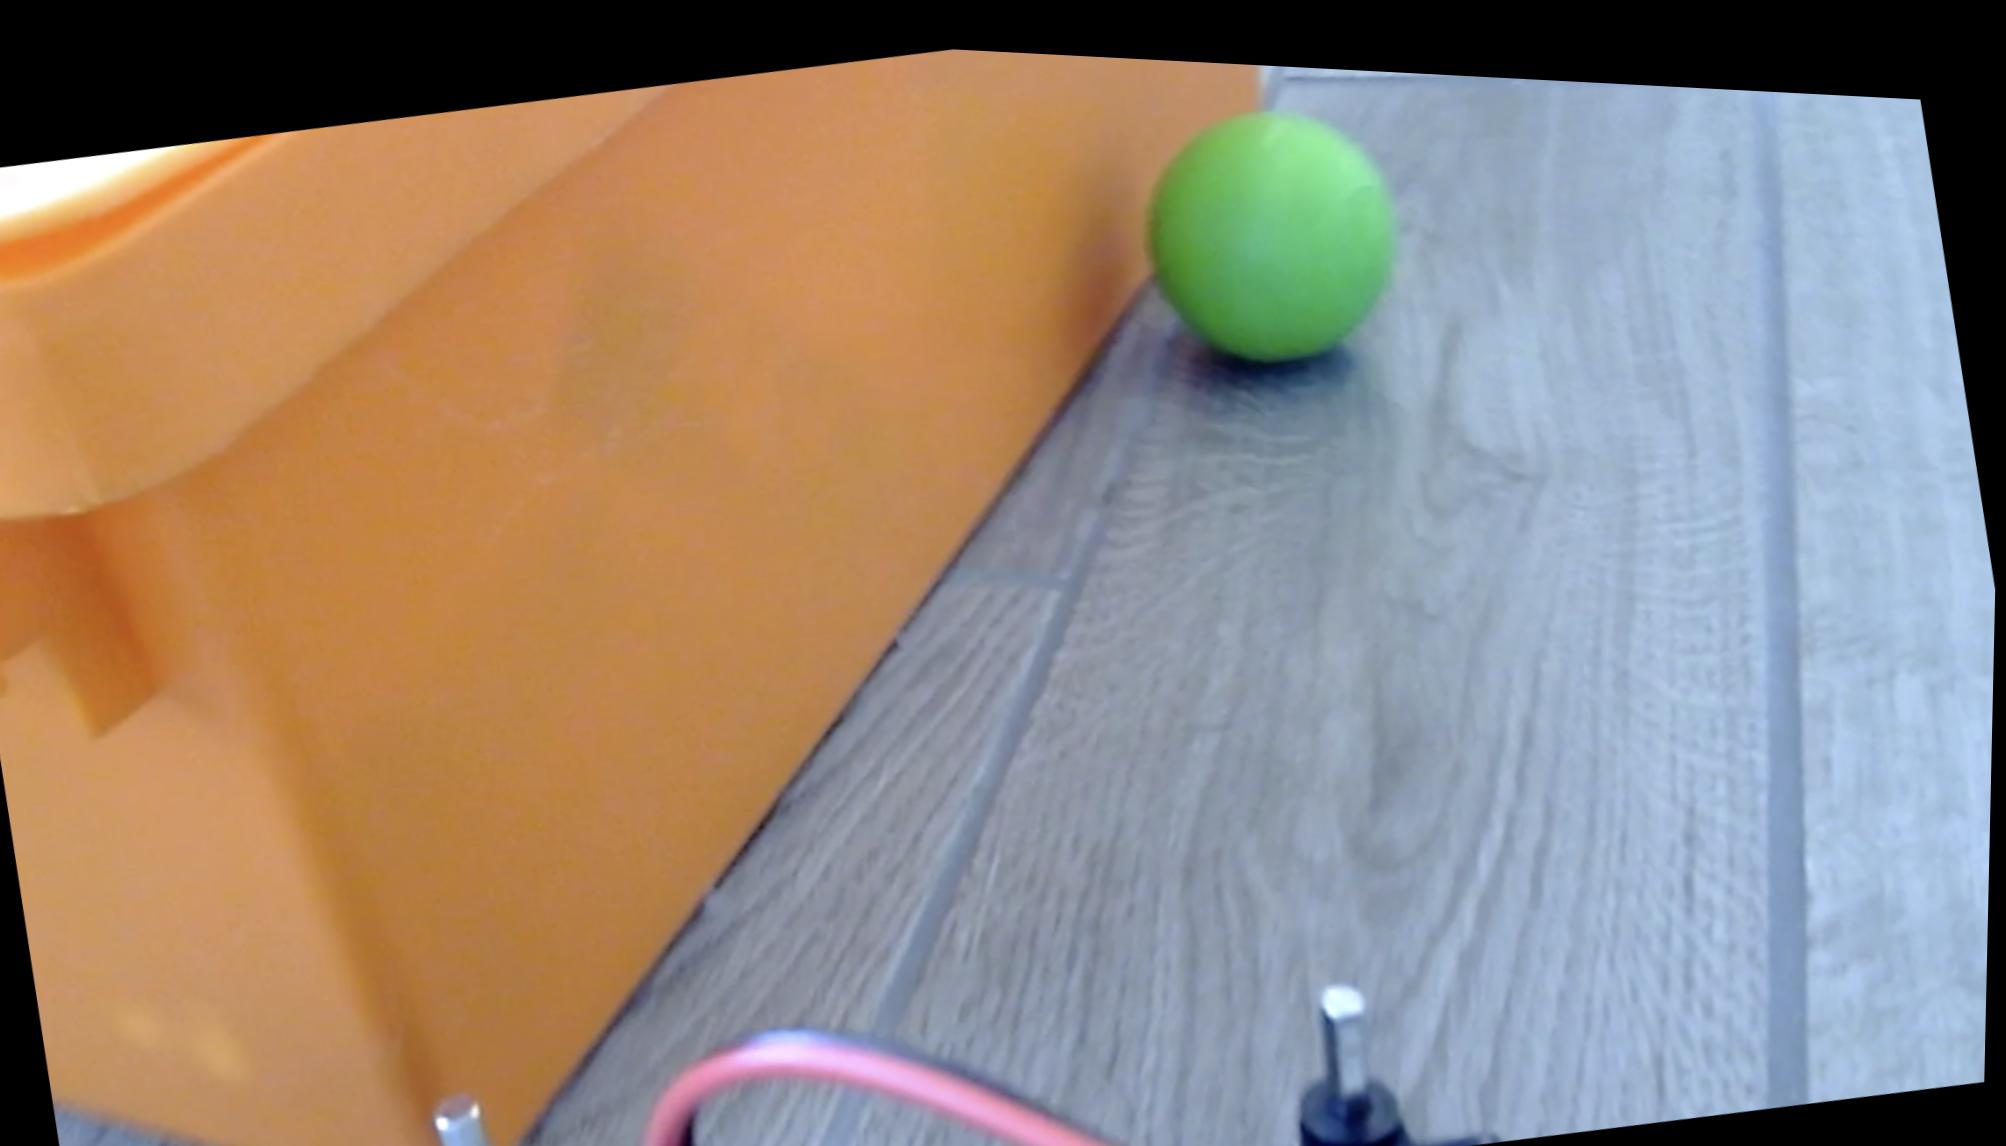greenball: (1121, 67, 1420, 376)
